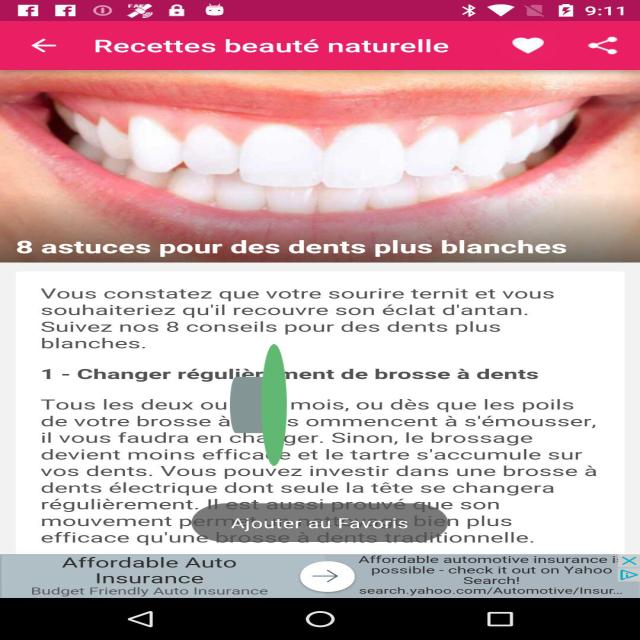social proof: (230, 269, 287, 541)
